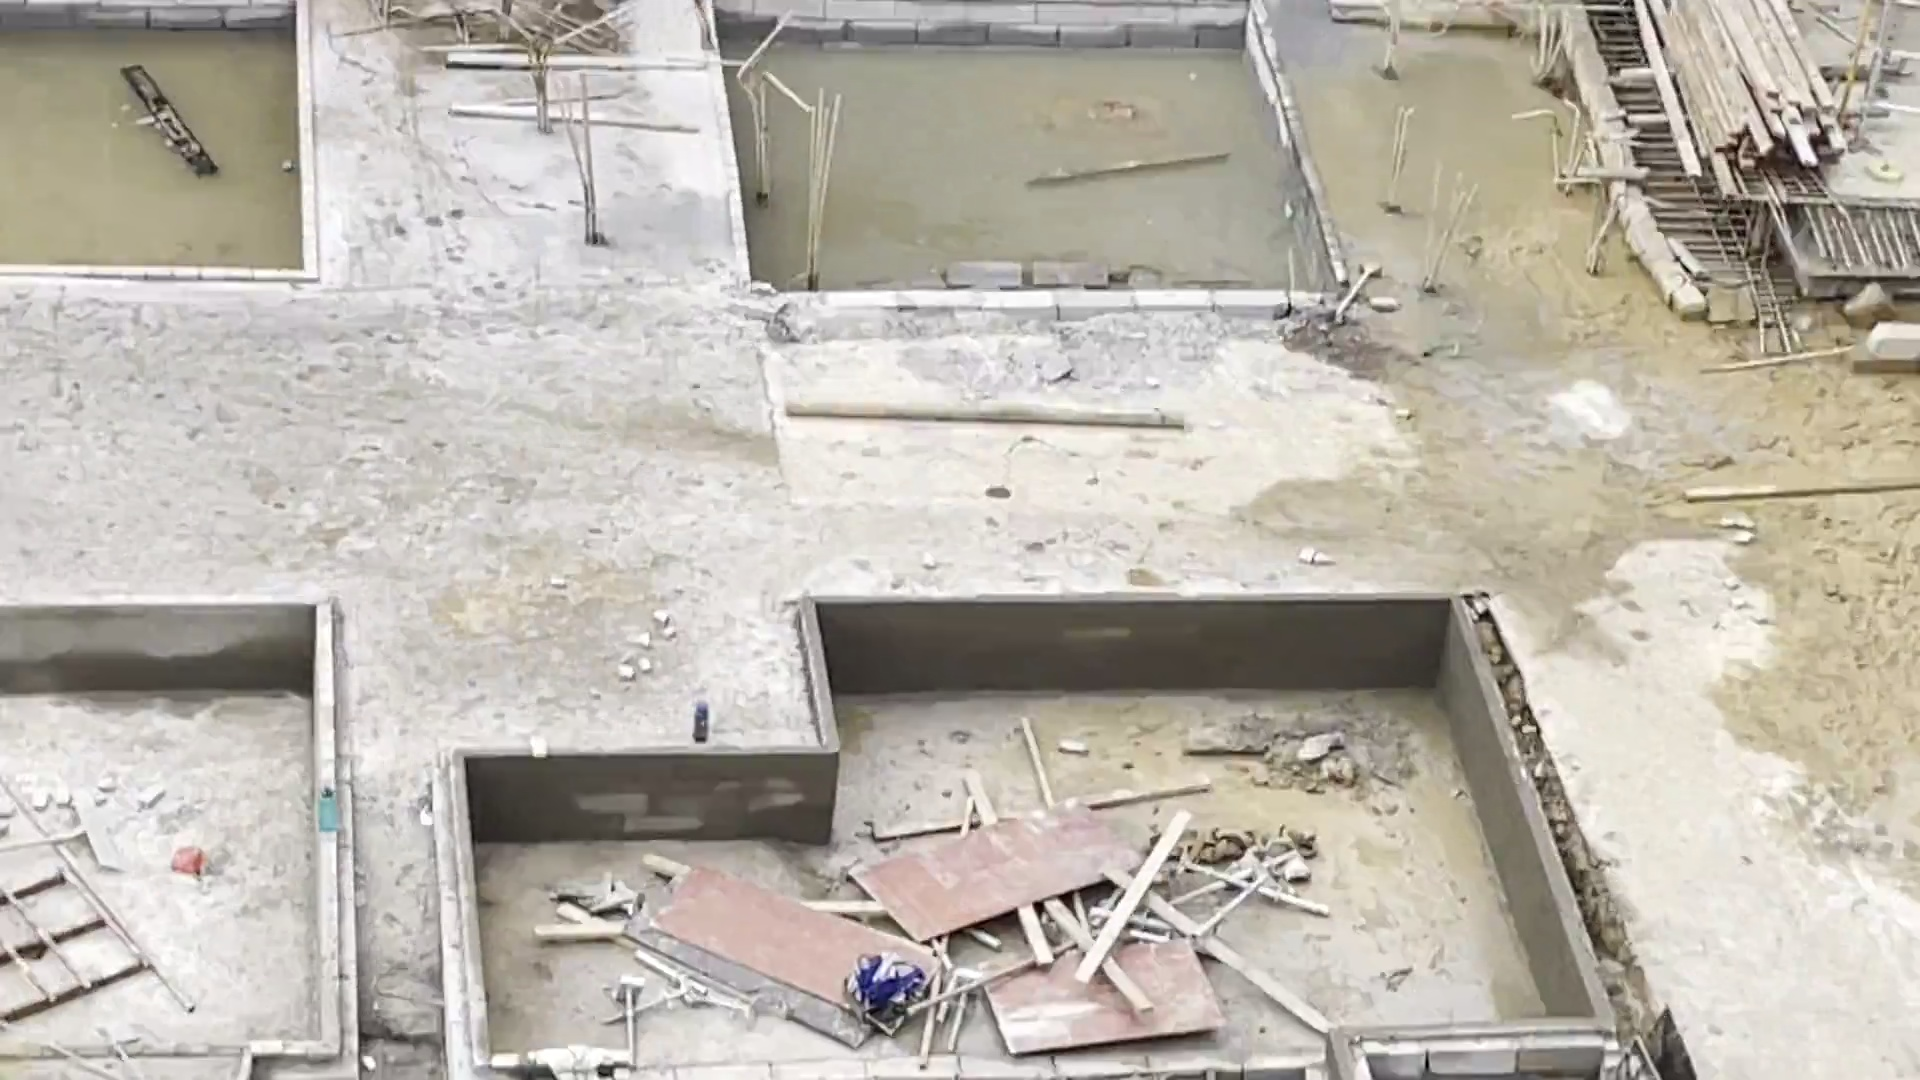wood: (1636, 1, 1855, 170)
